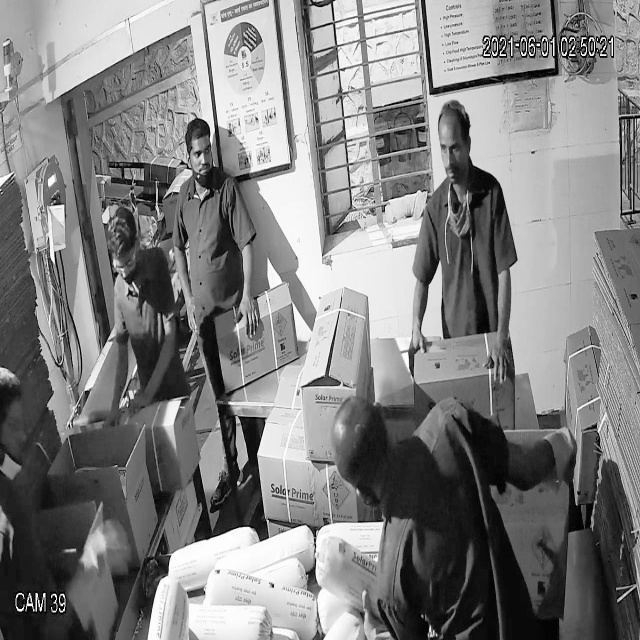Gafas: (109, 244, 140, 280)
Sin_gafas: (181, 137, 220, 172), (434, 135, 475, 167)
